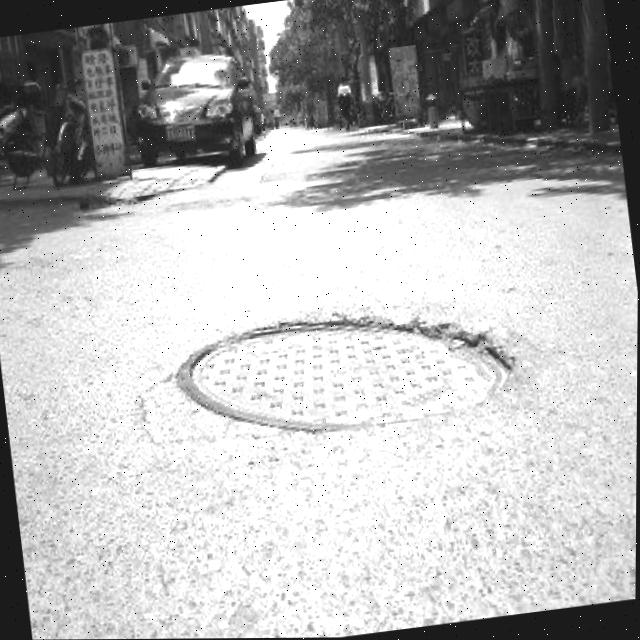manhole: (156, 276, 530, 465)
